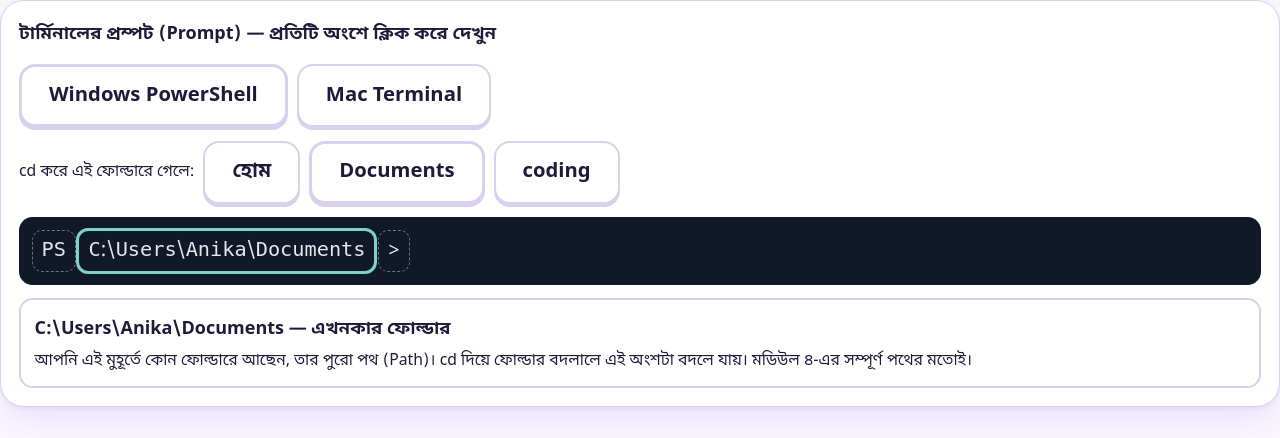
Test: prompt-anatomy widget › shows the folder explanation and updates when the folder or OS changes
Expected: the element with test id "prompt-info" shows "এখনকার ফোল্ডার", 34,316 -> 451,340
Click the button "Mac Terminal".
click(394, 96)  # box 297,64 -> 491,127
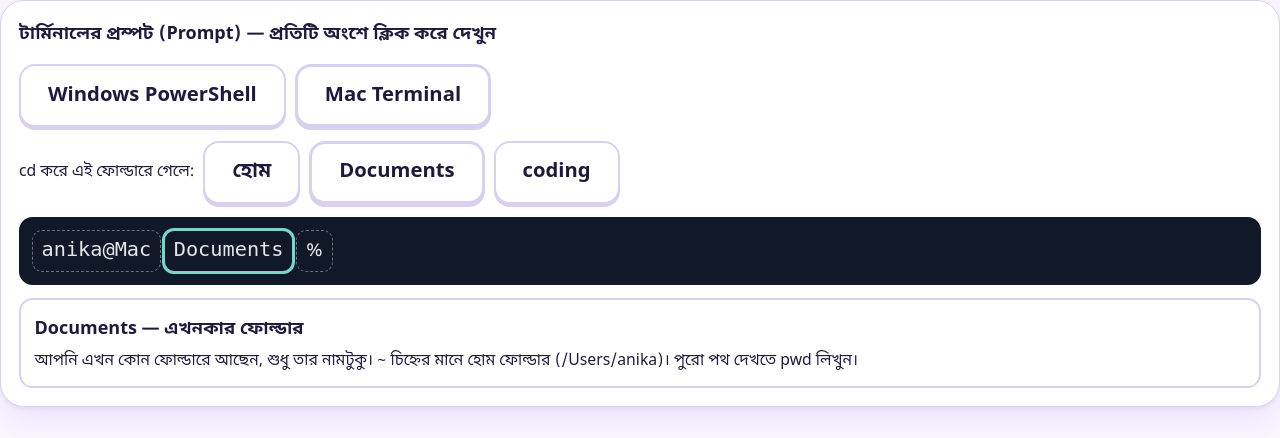
Click the button "coding".
click(557, 172)  # box 494,140 -> 620,204
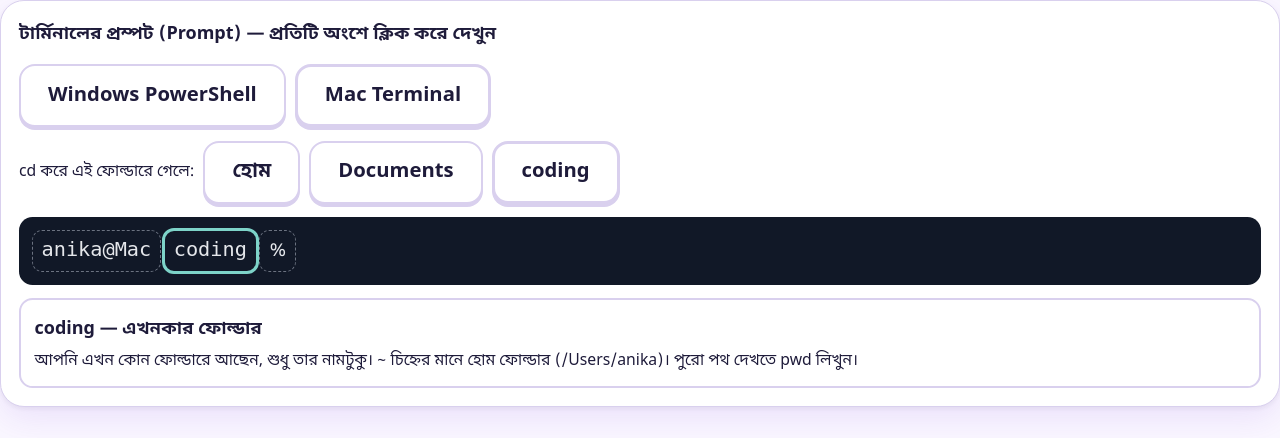
Expected: the element with test id "prompt-line" shows "coding", 165,230 -> 256,271
Click the button "%".
click(278, 251)  # box 260,230 -> 295,271
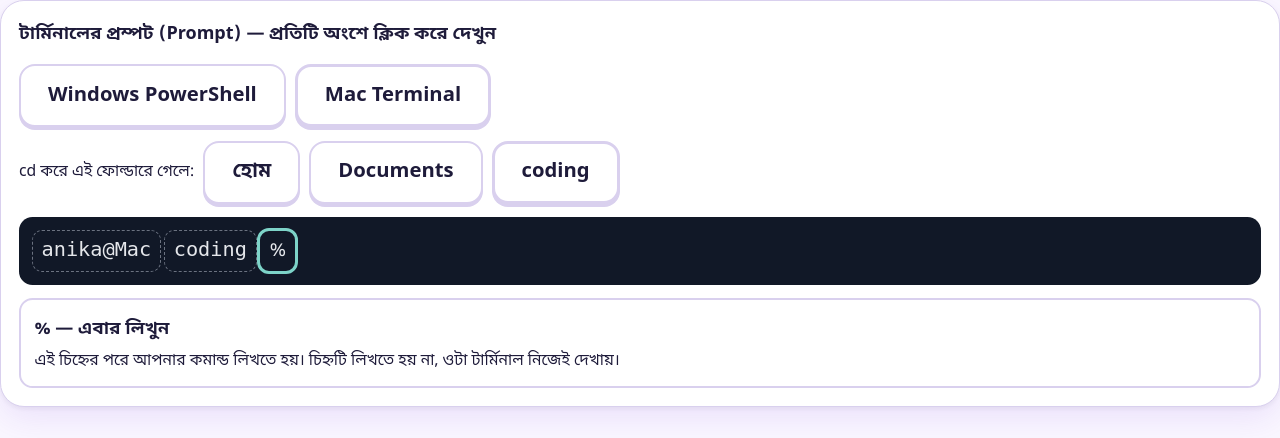
Expected: the element with test id "prompt-info" shows "%", 34,316 -> 170,340
